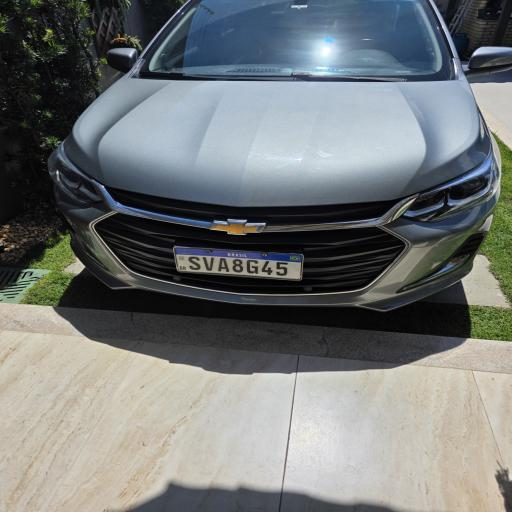Caractere: (202, 257, 214, 271), (232, 259, 244, 273), (261, 261, 273, 275), (276, 262, 288, 276), (188, 257, 200, 270), (218, 258, 229, 272), (247, 260, 258, 274)
Placa: (173, 246, 304, 281)
